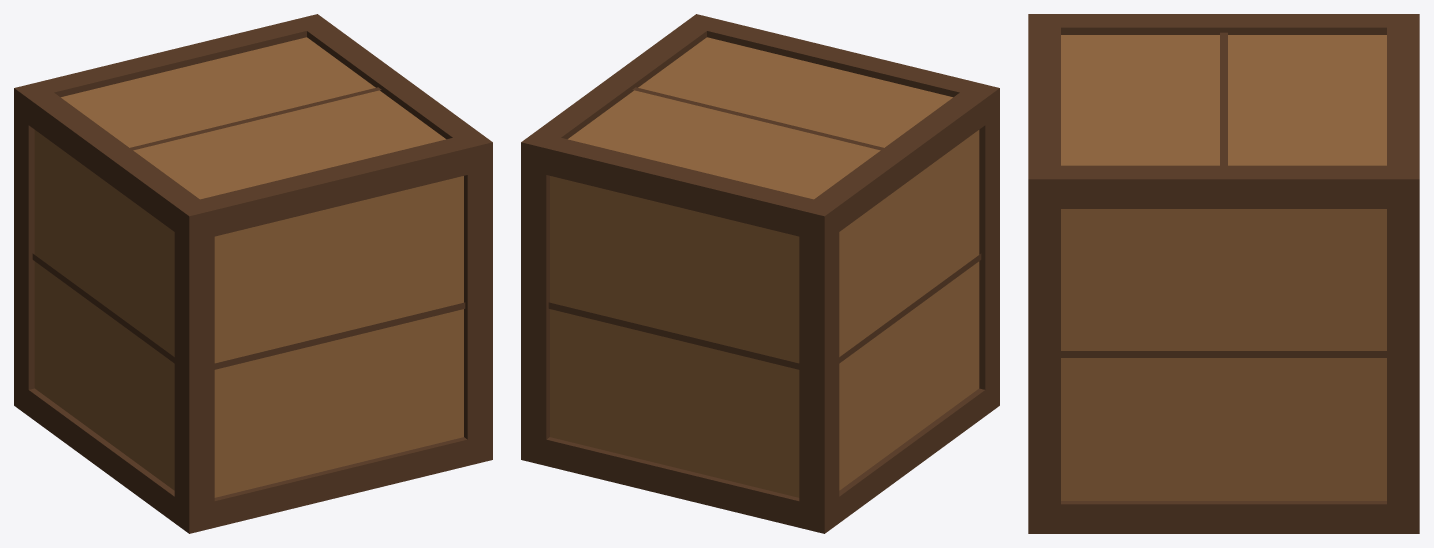
The model's file is prop_crate_small.glb.
3 renders of one model, left to right at view 1: azimuth 30°, elevation 25°; view 2: azimuth 150°, elevation 25°; view 3: azimuth 270°, elevation 25°, orthographic. The views are drawn at different scales.
Parts seen in each view (by area): view 1: prop_crate_small__mesh; view 2: prop_crate_small__mesh; view 3: prop_crate_small__mesh.
Part boxes in pixels (x1,y1,x2,y2): prop_crate_small__mesh: [14, 14, 492, 533]; prop_crate_small__mesh: [521, 14, 999, 533]; prop_crate_small__mesh: [1028, 14, 1419, 533].
Bounding box in the file's own units: 0.6 × 0.6 × 0.6.
1 material, 1 textured.
